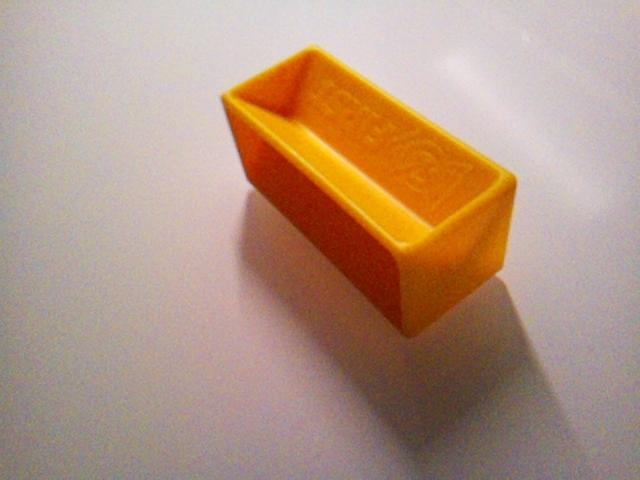yellow: (220, 43, 519, 339)
